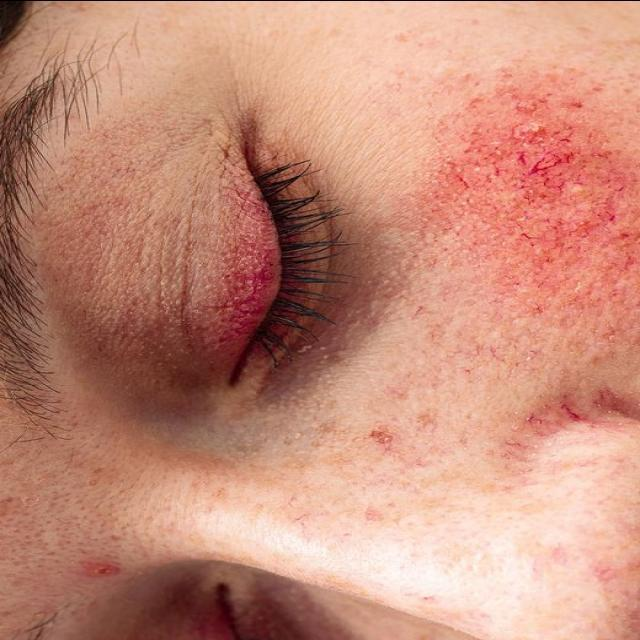Rosacea: (460, 110, 637, 284), (203, 222, 287, 352)
